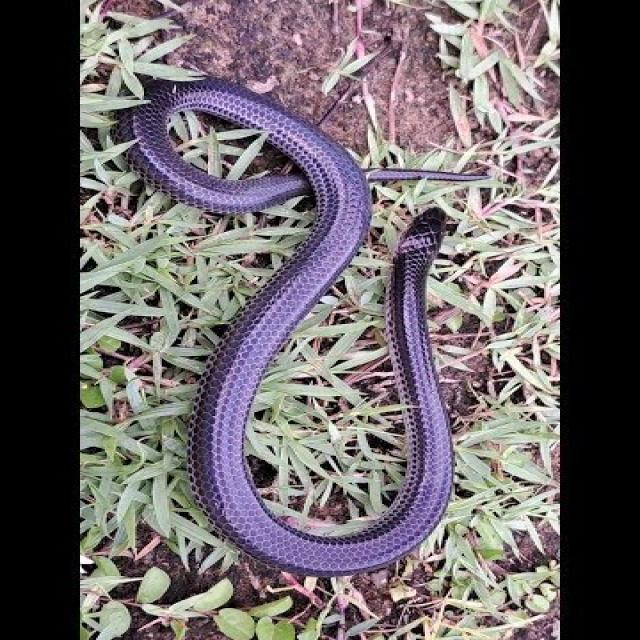Non-Venomous: (388, 210, 452, 380)
